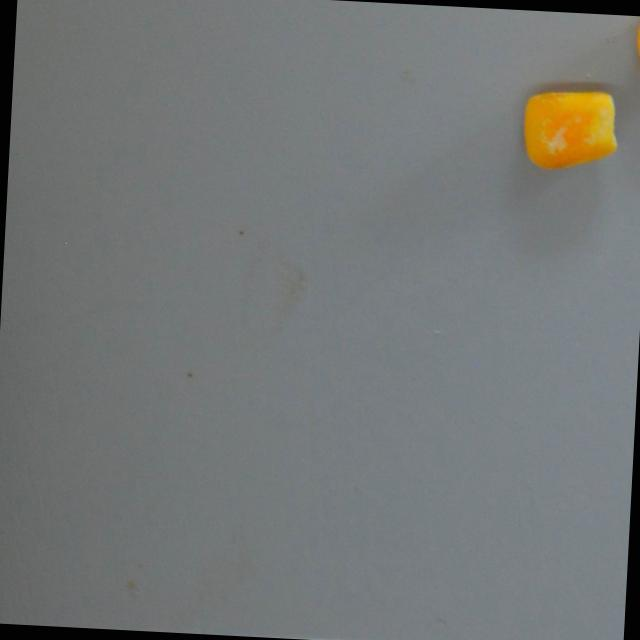no_canjicado: (629, 16, 640, 96)
pelicula: (519, 86, 623, 175)
